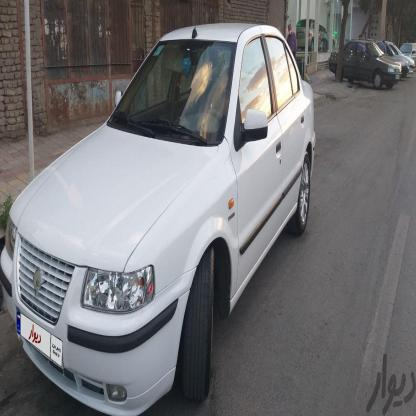Car: (0, 24, 322, 416), (328, 37, 404, 99), (379, 34, 415, 77)
